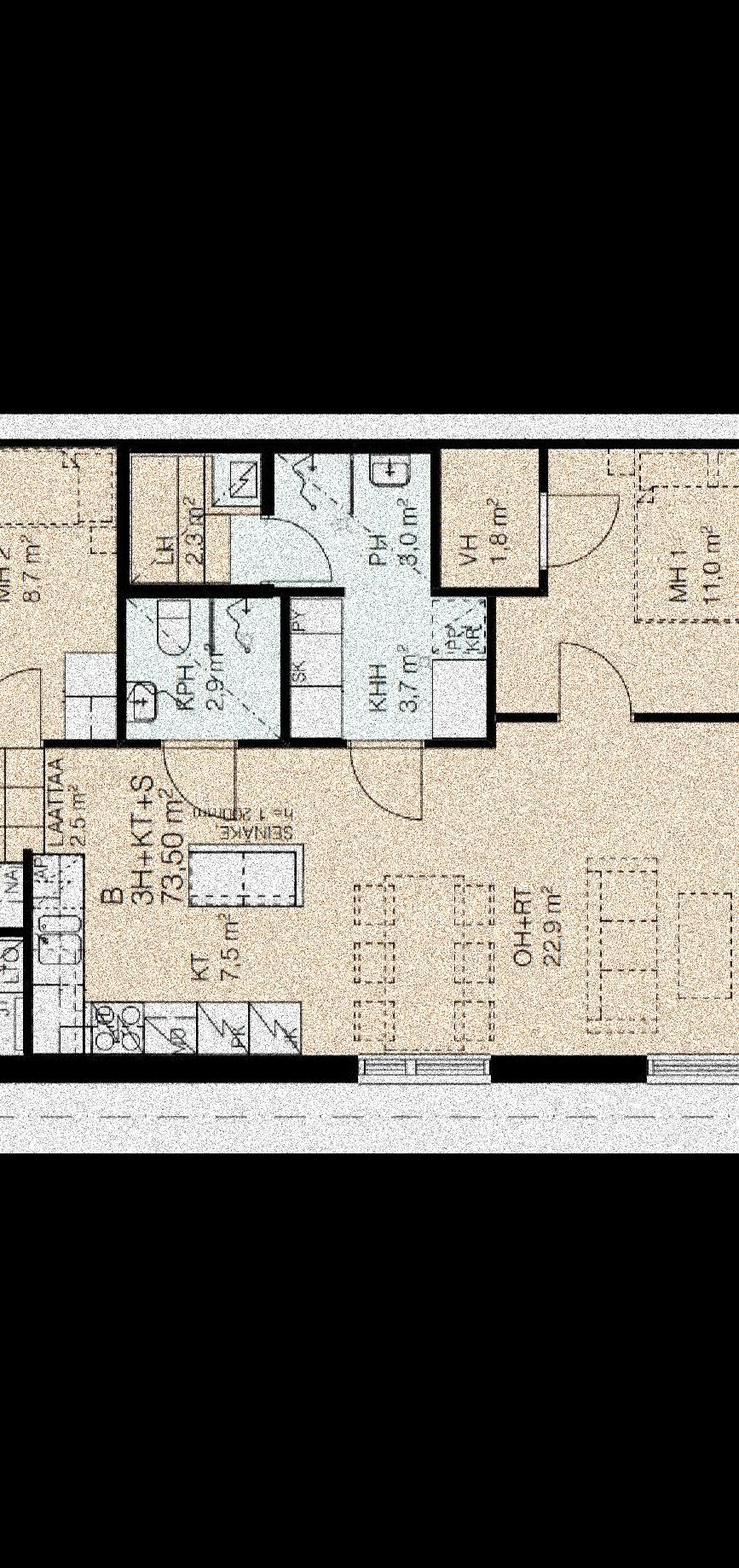door: (156, 733, 245, 828), (534, 485, 623, 577), (342, 733, 424, 825), (263, 517, 341, 595), (554, 639, 627, 720), (0, 662, 49, 756)
window: (358, 1053, 493, 1084), (642, 1053, 739, 1087)
zone: (38, 717, 739, 1056), (121, 449, 491, 735), (493, 452, 739, 713), (0, 450, 120, 739), (127, 609, 282, 744), (445, 447, 537, 595), (0, 749, 47, 923), (0, 932, 33, 1051)
